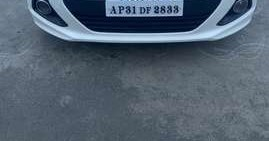AP31DF2833: (105, 1, 183, 16)
